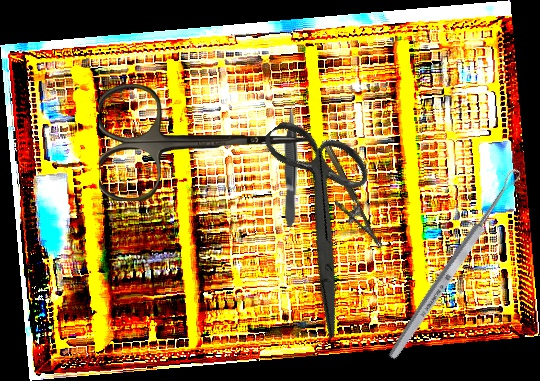Iris Scissors: (203, 97, 438, 341), (99, 84, 314, 201)
Needle Holder: (307, 138, 384, 258)
Surgical Spoon: (384, 166, 525, 363)
Tissue Forceps: (281, 105, 300, 227)
